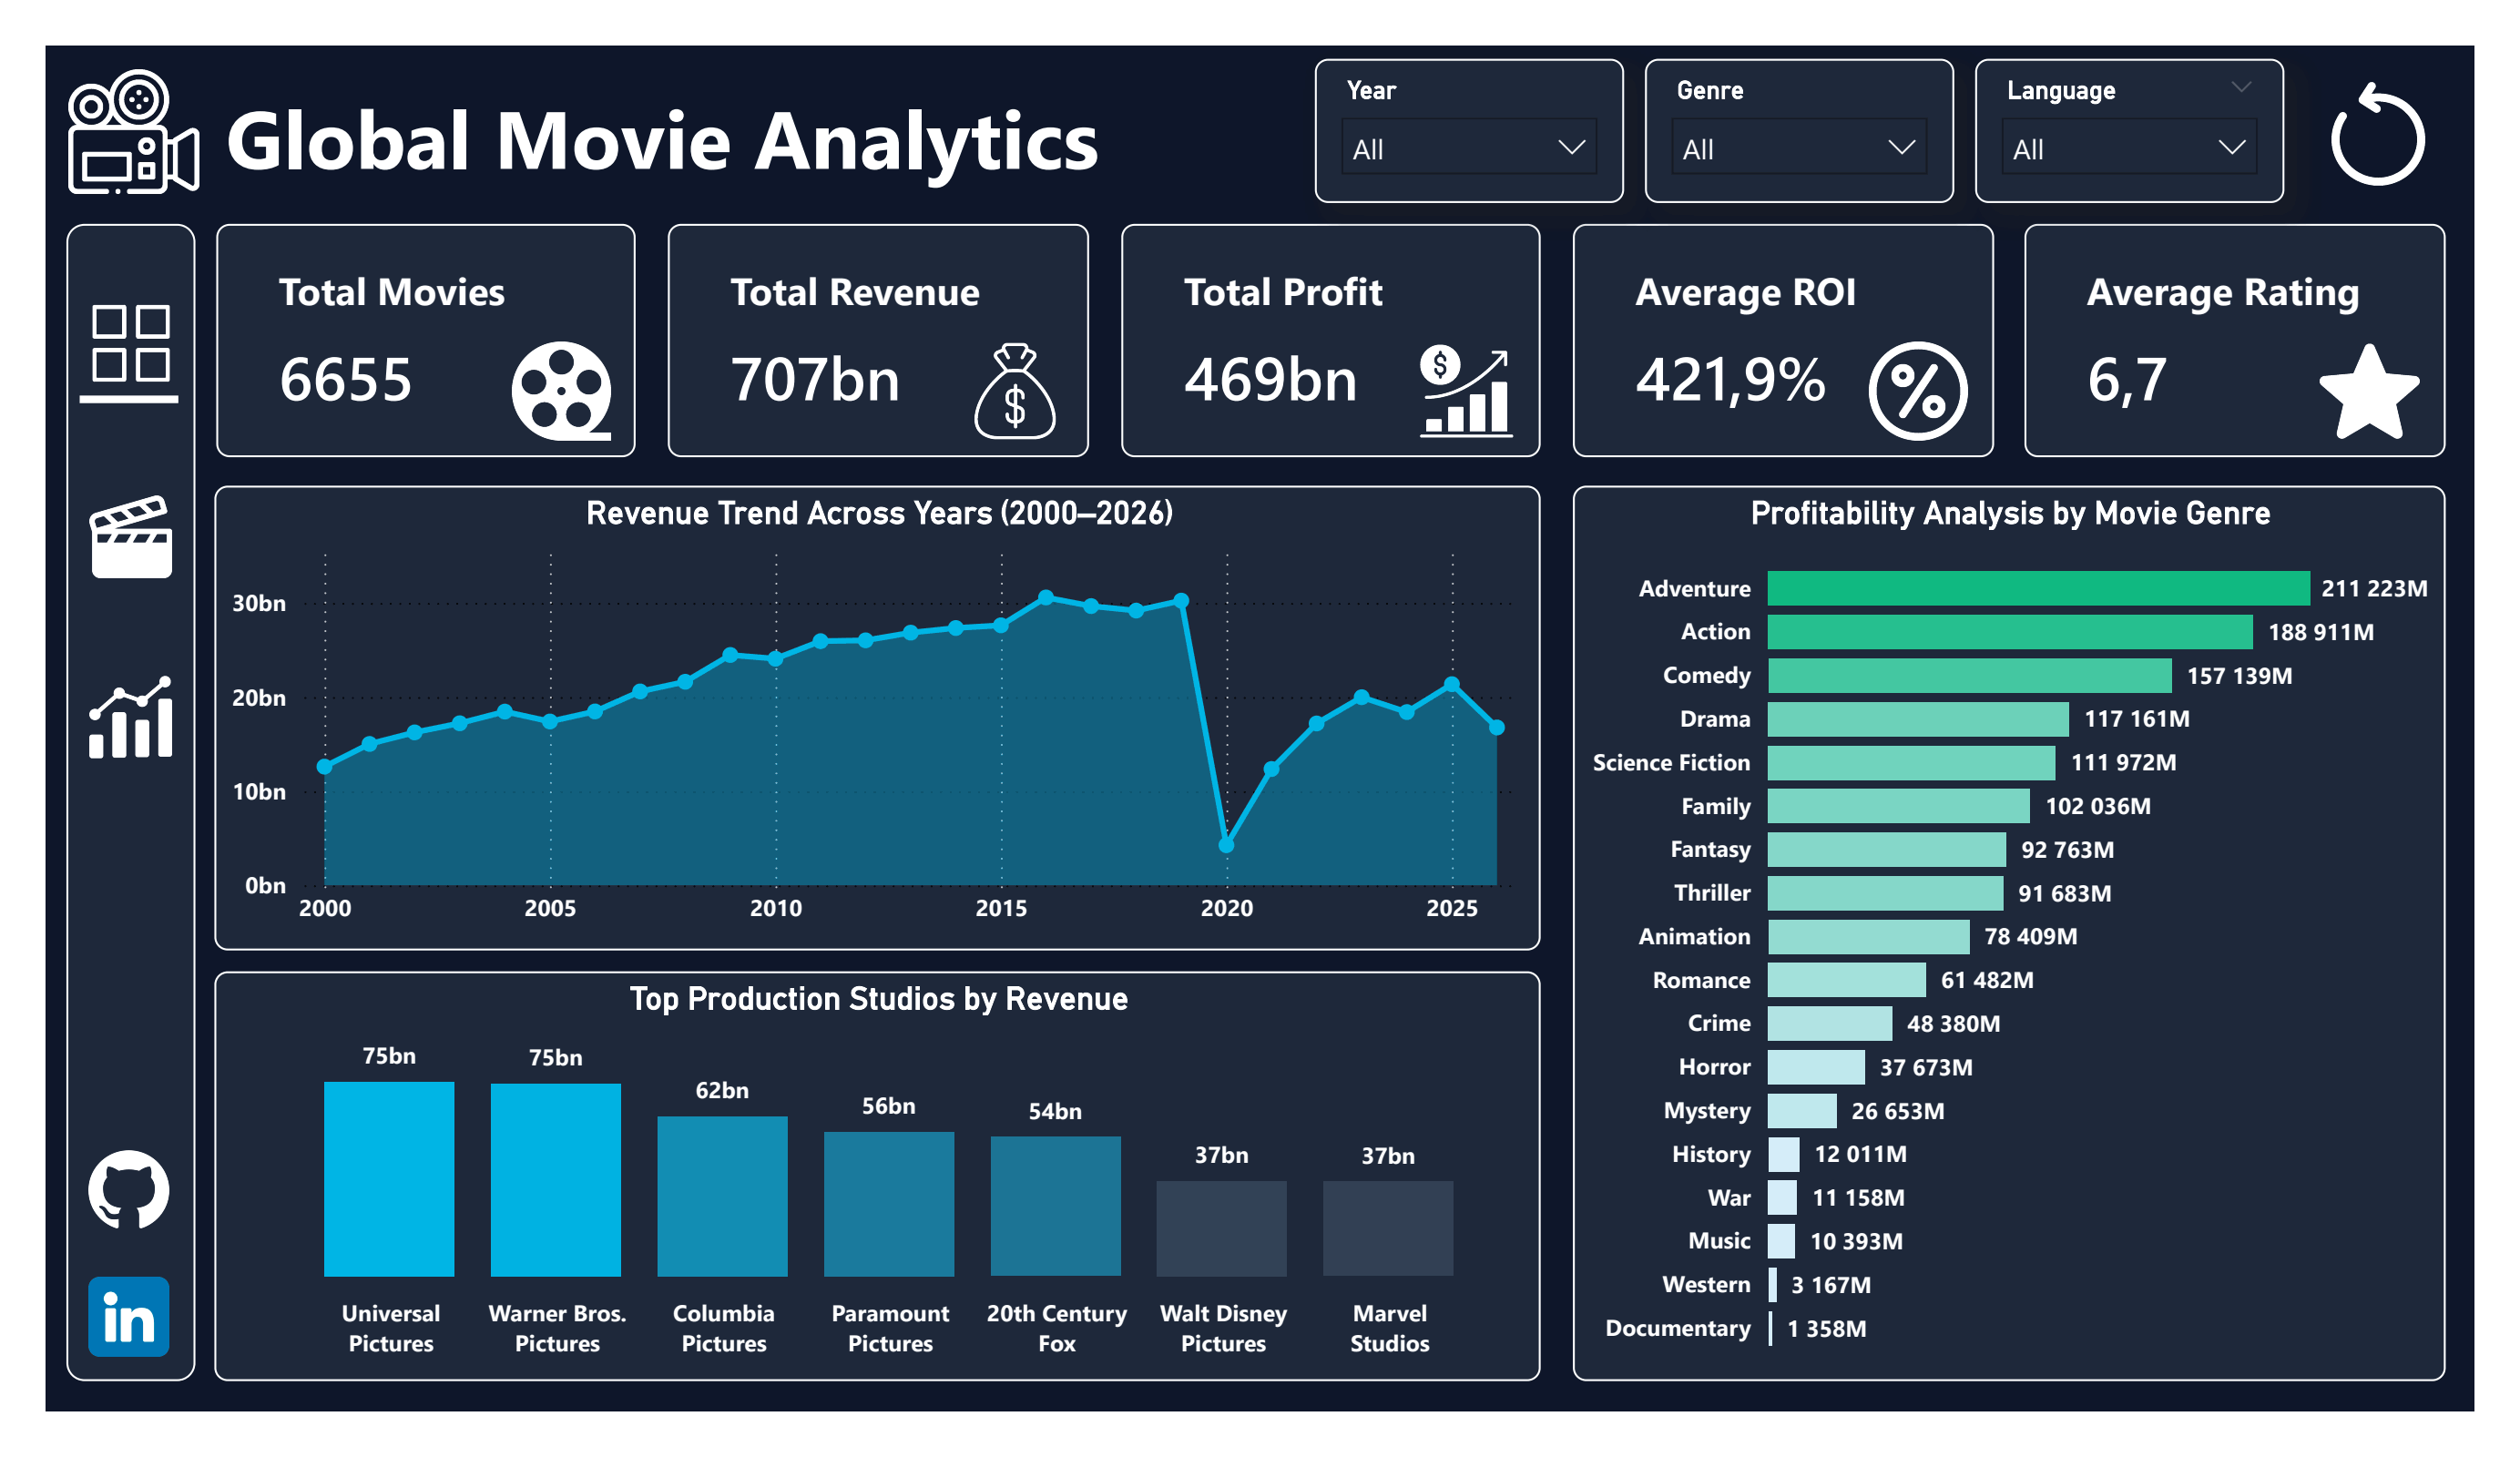

What the dashboard file says about the page in this screenshot:
{"tool":"powerbi","page":{"name":"Executive Overview","canvas":[1280,720],"ordinal":0},"visuals":[{"type":"cardVisual","fields":{"Data":["_Measures.Total Movies"]},"box":[90,93.9,221.5,123.4],"z":0},{"type":"cardVisual","fields":{"Data":["_Measures.Total Revenue"]},"box":[328.4,93.9,221.5,123.4],"z":1000},{"type":"cardVisual","fields":{"Data":["_Measures.Total Profit"]},"box":[566.7,93.9,221.5,123.4],"z":2000},{"type":"cardVisual","fields":{"Data":["_Measures.Avg ROI %"]},"box":[805.1,93.9,221.5,123.4],"z":3000},{"type":"cardVisual","fields":{"Data":["_Measures.Avg Rating"]},"box":[1043.5,93.9,221.5,123.4],"z":4000},{"type":"slicer","fields":{"Values":["dim_date.year"]},"box":[668.7,7.4,163.5,75.9],"z":5000},{"type":"slicer","fields":{"Values":["dim_genres.genre_name"]},"box":[842.7,7.4,163.5,75.9],"z":6000},{"type":"slicer","fields":{"Values":["vw_fact_movies_unique.original_language"]},"box":[1016.7,7.4,163.5,75.9],"z":7000},{"type":"lineChart","title":"Revenue Trend Across Years (2000–2026)","fields":{"Category":["dim_date.year"],"Y":["_Measures.Total Revenue"]},"box":[89.4,232,698.4,245.3],"z":8000},{"type":"clusteredBarChart","title":"Profitability Analysis by Movie Genre","fields":{"Category":["dim_genres.genre_name"],"Y":["_Measures.Total Profit"]},"box":[804.7,232,460.4,472.5],"z":9000},{"type":"clusteredColumnChart","title":"Top Production Studios by Revenue","fields":{"Category":["dim_companies.company_name"],"Y":["_Measures.Total Revenue"]},"box":[89.4,488.2,698.4,216.3],"z":10000},{"type":"textbox","box":[89.6,13.7,510.5,69.6],"z":11000},{"type":"shape","box":[10.9,94.2,67.7,610.2],"z":12000},{"type":"image","box":[3.2,10.5,86.5,69.6],"z":13000},{"type":"image","box":[10.5,236.3,67.5,45.4],"z":14000},{"type":"image","box":[10.5,126.6,67.5,60.1],"z":15000},{"type":"image","box":[10.5,331.2,67.5,45.4],"z":16000},{"type":"shape","box":[17.9,175.1,51.7,23.2],"z":17000},{"type":"image","box":[1193.9,12.7,70.7,67.5],"z":18000},{"type":"image","box":[23.2,578,42.2,49.6],"z":19000},{"type":"image","box":[23.2,645.5,42.2,49.6],"z":20000},{"type":"image","box":[233.1,156.1,78,51.7],"z":21000},{"type":"image","box":[471.5,156.1,78,51.7],"z":22000},{"type":"image","box":[709.8,156.1,78,51.7],"z":23000},{"type":"image","box":[948.2,156.1,78,51.7],"z":24000},{"type":"image","box":[1185.4,155.9,78.5,52],"z":25000}]}

Visuals, with their boxes on the page's 1280x720 design canvas (x1, y1, x2, y2). These are canvas units, not pixel positions in the 2520x1457 screenshot, which may show the page scaled, cropped or inside an application window:
cardVisual - _Measures.Total Movies: 90, 94, 312, 217
cardVisual - _Measures.Total Revenue: 328, 94, 550, 217
cardVisual - _Measures.Total Profit: 567, 94, 788, 217
cardVisual - _Measures.Avg ROI %: 805, 94, 1027, 217
cardVisual - _Measures.Avg Rating: 1044, 94, 1265, 217
slicer - dim_date.year: 669, 7, 832, 83
slicer - dim_genres.genre_name: 843, 7, 1006, 83
slicer - vw_fact_movies_unique.original_language: 1017, 7, 1180, 83
"Revenue Trend Across Years (2000–2026)" lineChart: 89, 232, 788, 477
"Profitability Analysis by Movie Genre" clusteredBarChart: 805, 232, 1265, 704
"Top Production Studios by Revenue" clusteredColumnChart: 89, 488, 788, 704
textbox: 90, 14, 600, 83
shape: 11, 94, 79, 704
image: 3, 10, 90, 80
image: 10, 236, 78, 282
image: 10, 127, 78, 187
image: 10, 331, 78, 377
shape: 18, 175, 70, 198
image: 1194, 13, 1265, 80
image: 23, 578, 65, 628
image: 23, 646, 65, 695
image: 233, 156, 311, 208
image: 472, 156, 550, 208
image: 710, 156, 788, 208
image: 948, 156, 1026, 208
image: 1185, 156, 1264, 208
